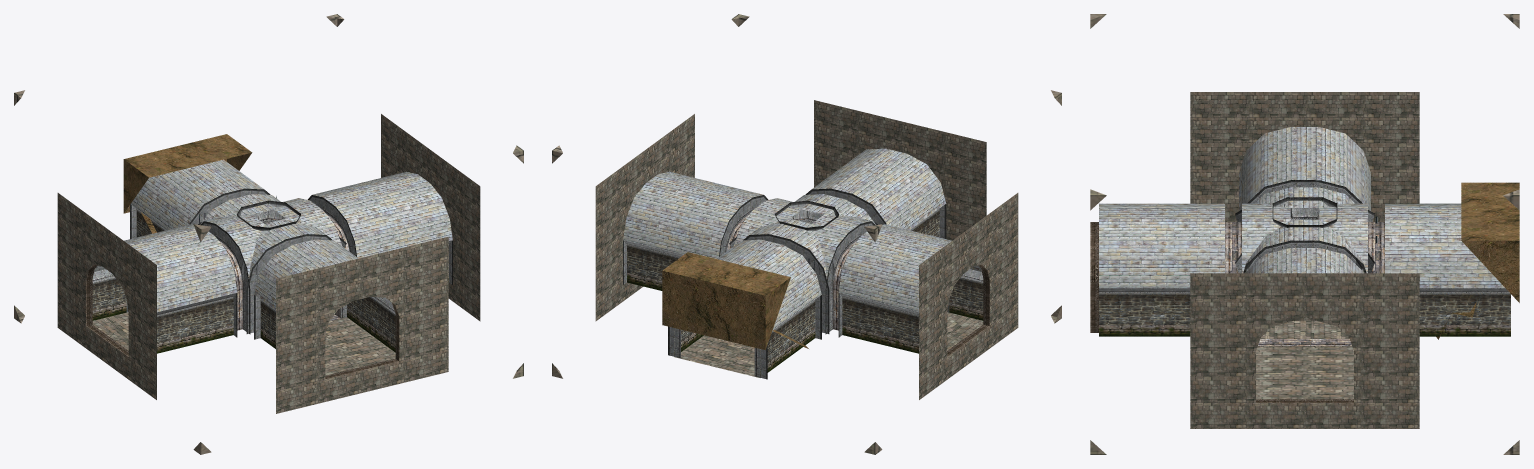
Rendered from lbg_3d.glb.
3 renders of one model, left to right at view 1: azimuth 30°, elevation 25°; view 2: azimuth 150°, elevation 25°; view 3: azimuth 270°, elevation 25°, orthographic. The views are drawn at different scales.
Parts seen in each view (by area): view 1: lbg_3d-col; view 2: lbg_3d-col; view 3: lbg_3d-col.
Part boxes in pixels (x1,y1,x2,y2): lbg_3d-col: [14, 14, 523, 454]; lbg_3d-col: [552, 14, 1061, 454]; lbg_3d-col: [1090, 14, 1519, 454].
Size of the model in its own units: 15 by 10 by 15.
12 materials, 12 textured.
